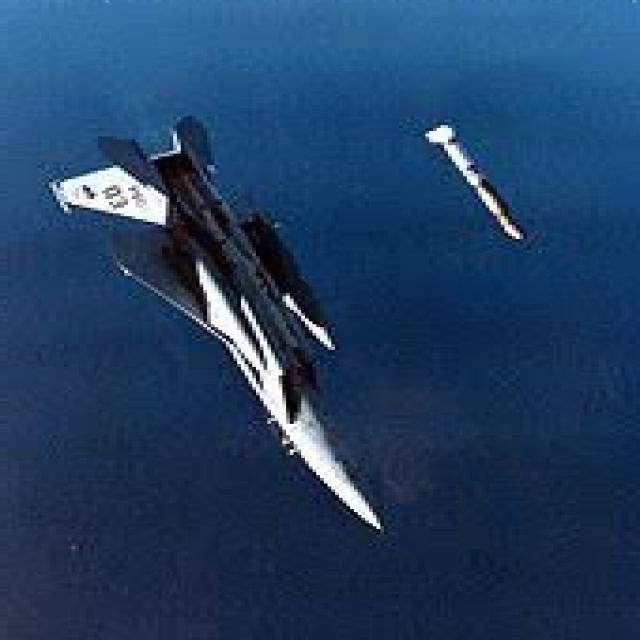Missile: (409, 123, 531, 261)
